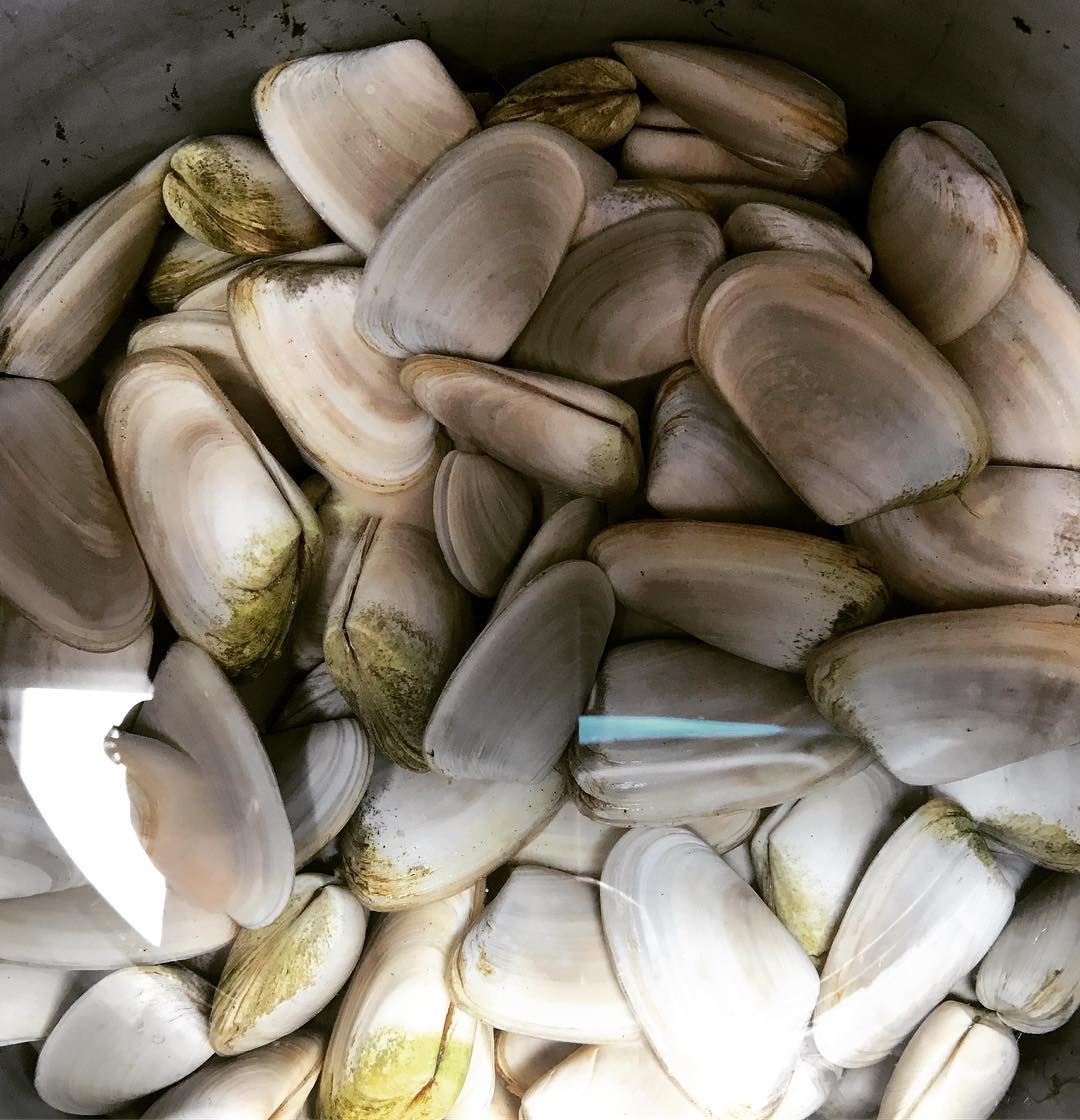tuatua: (680, 240, 996, 538), (87, 342, 319, 670), (590, 816, 830, 1117), (809, 792, 1024, 1072), (352, 116, 585, 366), (224, 257, 434, 506), (800, 604, 1080, 785), (588, 515, 881, 679), (253, 34, 469, 245), (422, 554, 615, 788), (3, 367, 155, 657), (319, 866, 484, 1120), (447, 859, 660, 1051), (510, 201, 728, 385), (863, 113, 1031, 350), (396, 347, 647, 500), (612, 28, 847, 188), (315, 504, 449, 773), (344, 756, 563, 907), (940, 250, 1080, 466), (856, 469, 1080, 601), (35, 965, 222, 1117), (210, 872, 365, 1053), (747, 772, 887, 967), (157, 129, 319, 256), (880, 997, 1027, 1120), (430, 447, 535, 604), (981, 875, 1077, 1038), (490, 51, 646, 148), (280, 709, 381, 856)
